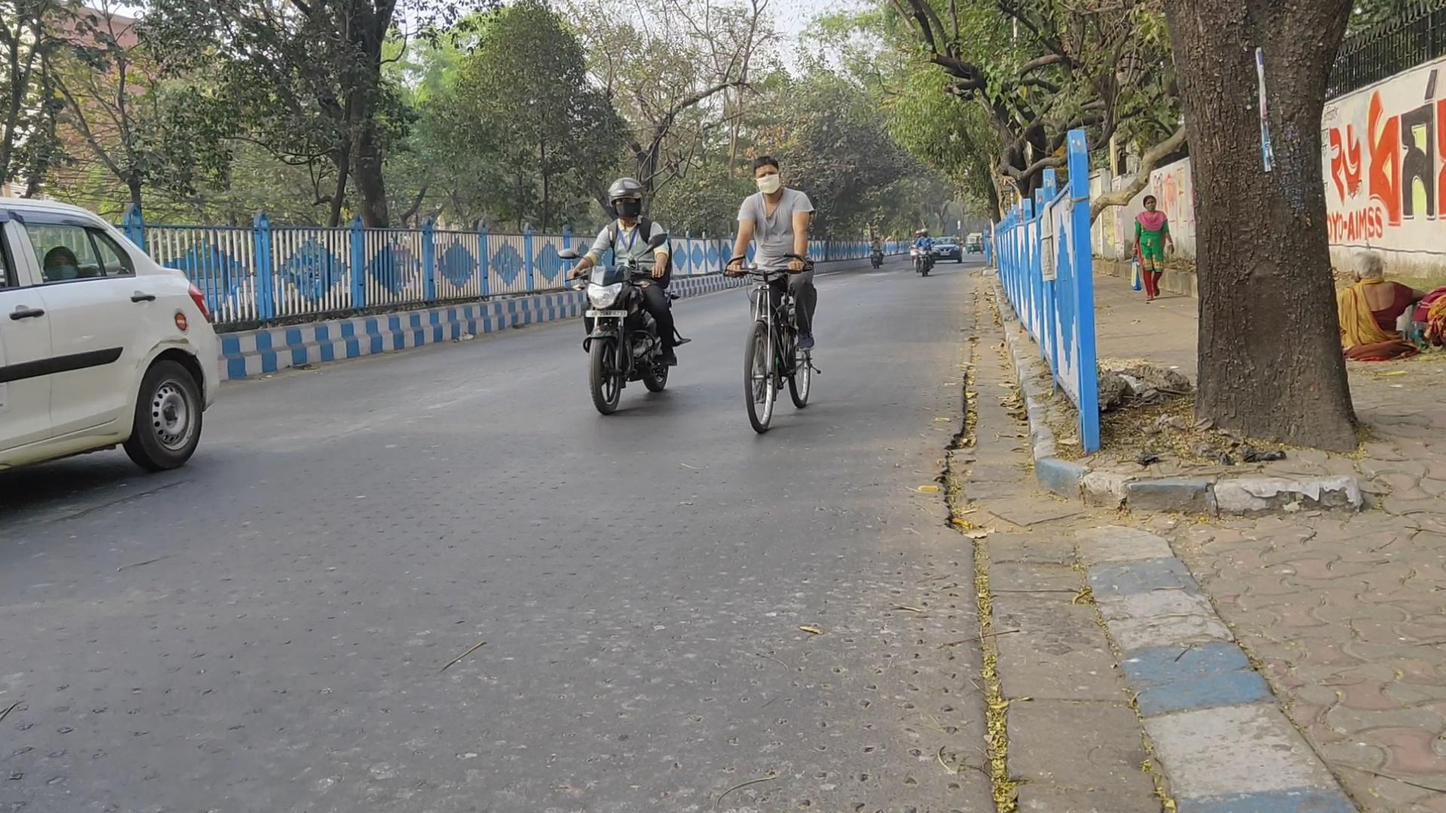bike: (558, 177, 691, 416), (724, 157, 822, 434), (914, 228, 936, 276), (869, 236, 884, 269)
car: (1, 197, 220, 512), (932, 236, 963, 265)
